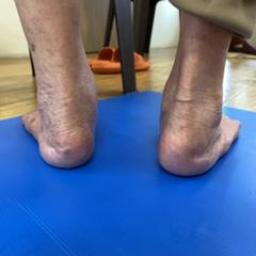Back View -Both Feet-: (13, 33, 248, 189)
